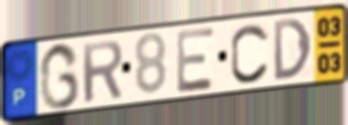8: (132, 31, 172, 100)
C: (228, 21, 271, 86)
D: (271, 16, 314, 84)
E: (174, 24, 217, 96)
G: (38, 40, 81, 112)
R: (79, 38, 125, 105)
